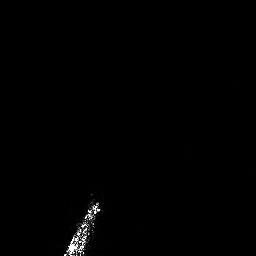ship: (62, 193, 103, 256)
